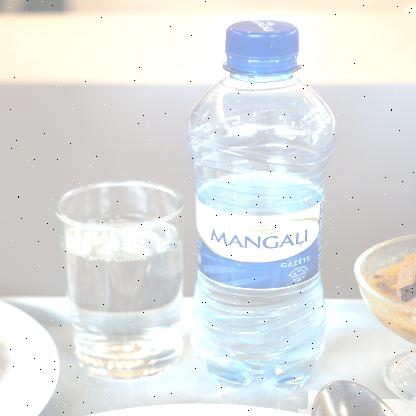Plastic Bottle: (189, 20, 336, 390)
